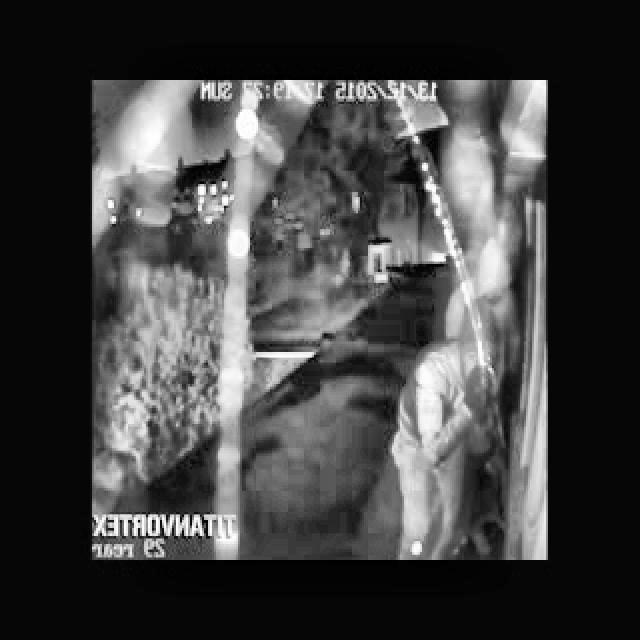burglary: (392, 232, 546, 559)
